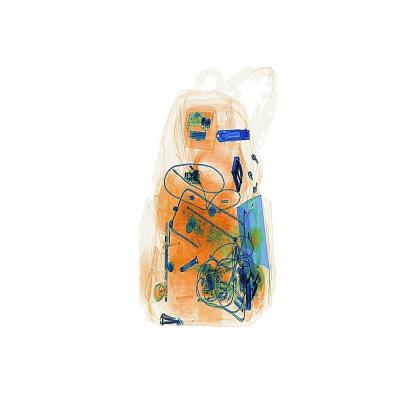knife: (208, 128, 255, 153)
